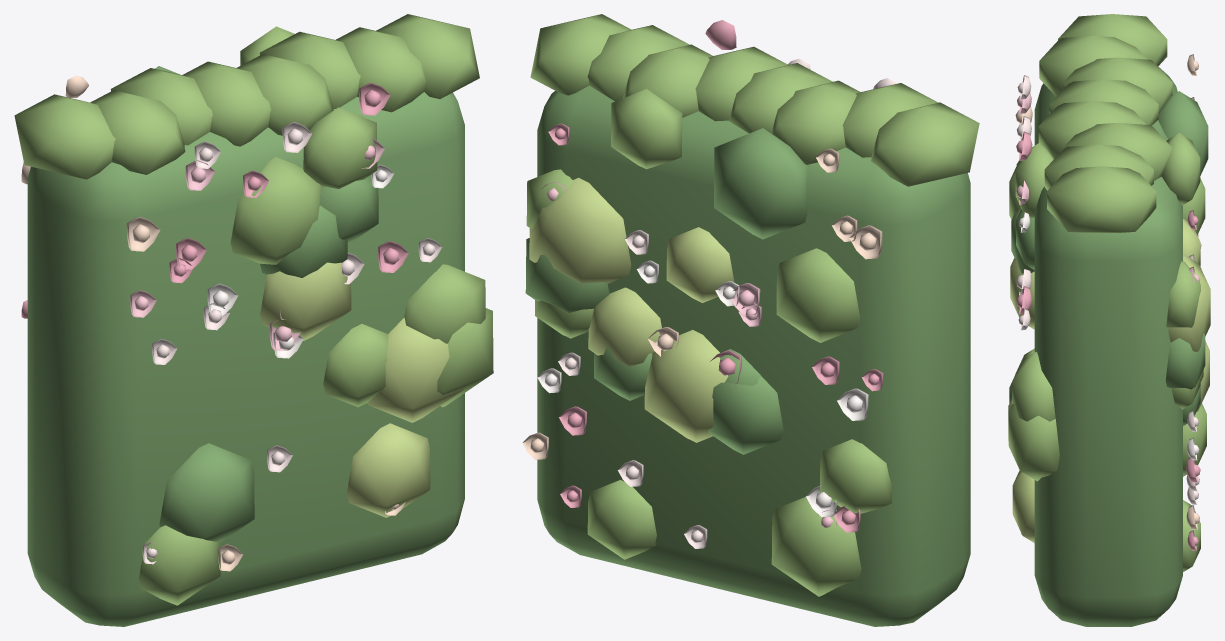
The model's file is hedge-flower.glb.
3 renders of one model, left to right at view 1: azimuth 30°, elevation 25°; view 2: azimuth 150°, elevation 25°; view 3: azimuth 270°, elevation 25°, orthographic. The views are drawn at different scales.
Visible parts, largest first — view 1: hedge-flower; view 2: hedge-flower; view 3: hedge-flower.
Part boxes in pixels (bbox=[...]): hedge-flower: bbox=[14, 14, 493, 626]; hedge-flower: bbox=[522, 14, 979, 626]; hedge-flower: bbox=[1008, 14, 1210, 626].
Size of the model in its own units: 2.22 by 2.5 by 0.9841.
